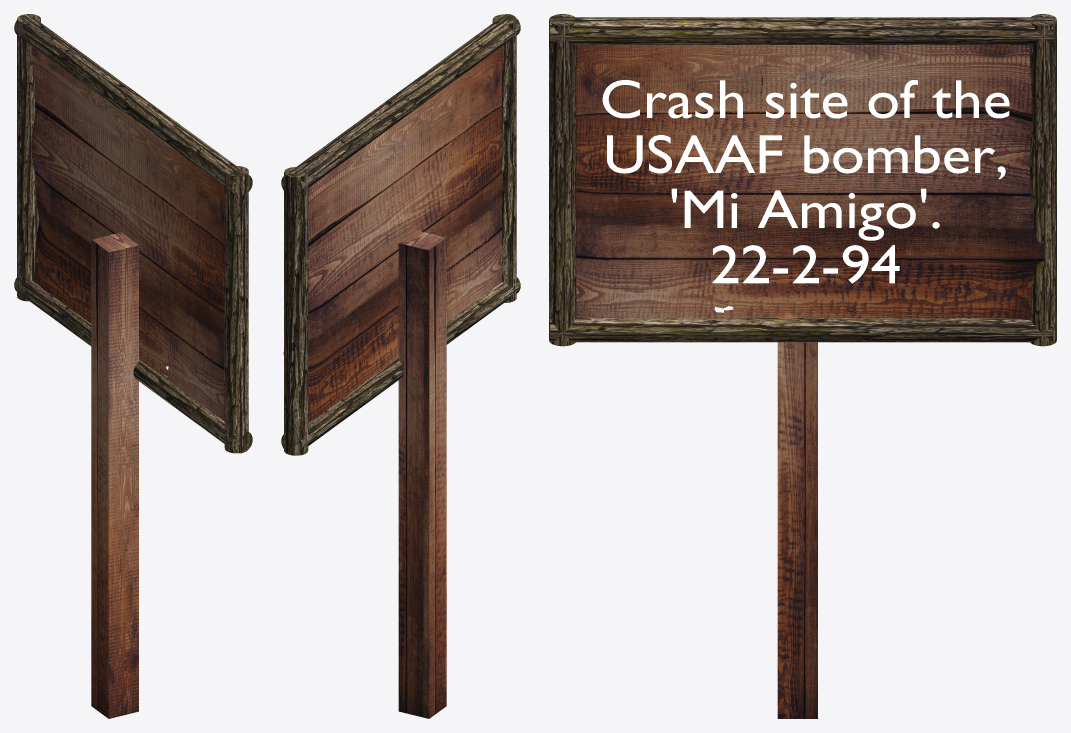
Rendered from MiAmigoW.glb.
3 views of the same model, side by side, from view 1: azimuth 30°, elevation 25°; view 2: azimuth 150°, elevation 25°; view 3: azimuth 270°, elevation 25° (orthographic). The views are drawn at different scales.
Visible parts, largest first — view 1: Plane_Plane.001, Cube_Cube.001, Cylinder.003, Cylinder.002, Cylinder.004, Cylinder.001; view 2: Plane_Plane.001, Cube_Cube.001, Cylinder.004, Cylinder.003, Cylinder.002, Cylinder.001; view 3: Plane_Plane.001, Text, Cube_Cube.001, Cylinder.003, Cylinder.001, Cylinder.002, Cylinder.004.
Boxes of the visible parts, <box> form: Plane_Plane.001: <box>31,46,224,421</box>; Cube_Cube.001: <box>91,232,138,718</box>; Cylinder.003: <box>14,14,252,195</box>; Cylinder.002: <box>224,166,248,453</box>; Cylinder.004: <box>17,14,40,301</box>; Cylinder.001: <box>14,277,252,453</box>; Plane_Plane.001: <box>283,45,503,422</box>; Cube_Cube.001: <box>398,230,446,718</box>; Cylinder.004: <box>284,167,308,455</box>; Cylinder.003: <box>281,14,520,194</box>; Cylinder.002: <box>492,14,516,302</box>; Cylinder.001: <box>281,277,520,453</box>; Plane_Plane.001: <box>576,44,1045,320</box>; Text: <box>602,80,1009,283</box>; Cube_Cube.001: <box>777,342,817,718</box>; Cylinder.003: <box>550,17,1053,44</box>; Cylinder.001: <box>550,314,1053,342</box>; Cylinder.002: <box>549,14,576,346</box>; Cylinder.004: <box>1029,14,1056,346</box>.
Size of the model in its own units: 0.3738 by 4.6 by 3.01.
4 materials, 3 textured.
